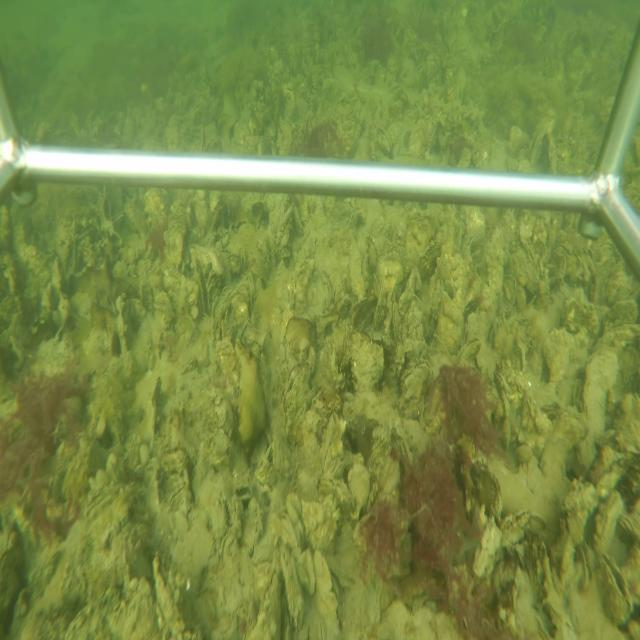Oyster-Closed: (540, 403, 592, 502), (241, 558, 284, 638), (582, 345, 621, 428), (314, 548, 346, 637), (278, 545, 304, 631), (136, 372, 162, 454), (241, 495, 265, 563), (397, 359, 434, 401), (594, 318, 638, 348), (351, 243, 369, 307), (319, 427, 338, 476), (398, 273, 416, 315), (456, 335, 482, 364), (372, 282, 386, 332), (393, 299, 401, 341)
Oyster-Indeterminate: (350, 342, 385, 387), (297, 546, 316, 597)
Oyster-Open: (599, 552, 633, 628), (193, 257, 214, 320), (577, 540, 594, 592)
